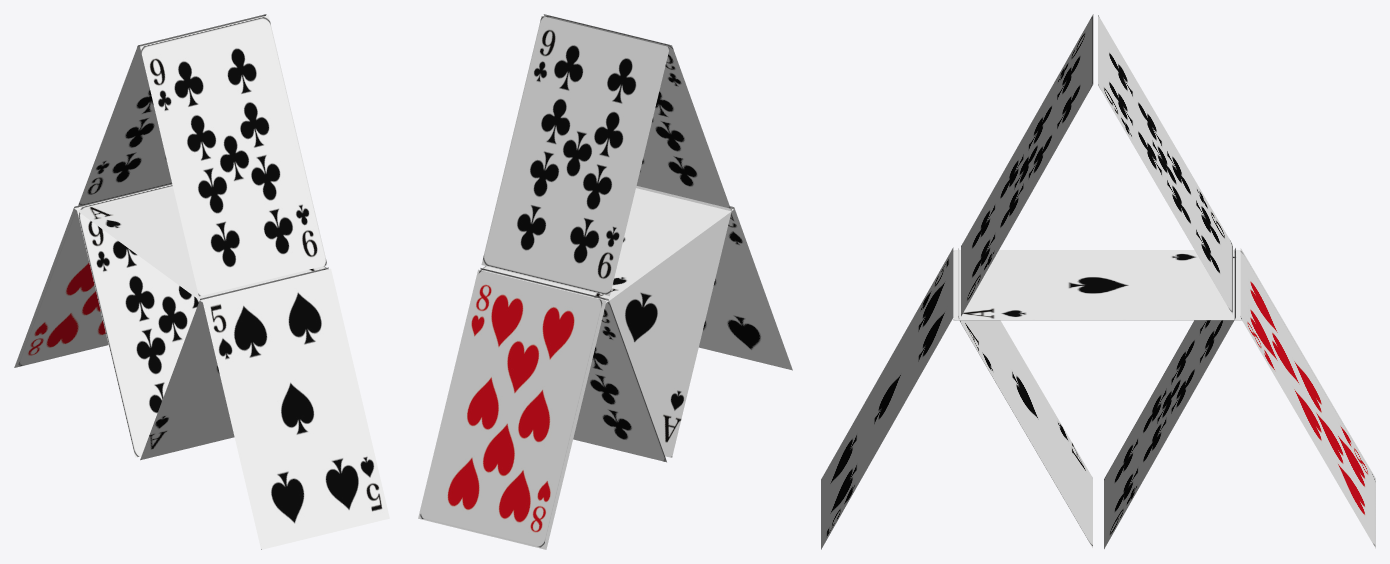
The model's file is trumptower.fbx.
3 renders of one model, left to right at view 1: azimuth 30°, elevation 25°; view 2: azimuth 150°, elevation 25°; view 3: azimuth 270°, elevation 25°, orthographic. The views are drawn at different scales.
Visible parts, largest first — view 1: polySurface3, polySurface7, polySurface5, polySurface2, polySurface6, polySurface4, polySurface1; view 2: polySurface4, polySurface2, polySurface6, polySurface3, polySurface5, polySurface7, polySurface1; view 3: polySurface1, polySurface4, polySurface2, polySurface3, polySurface7, polySurface6, polySurface5.
Part boxes in pixels (<box>): polySurface3: <box>140,15,327,296</box>; polySurface7: <box>202,268,389,549</box>; polySurface5: <box>76,184,199,457</box>; polySurface2: <box>77,14,266,206</box>; polySurface6: <box>140,267,328,460</box>; polySurface4: <box>14,184,171,367</box>; polySurface1: <box>74,187,328,302</box>; polySurface4: <box>418,269,606,549</box>; polySurface2: <box>481,16,669,296</box>; polySurface6: <box>609,186,731,457</box>; polySurface3: <box>543,14,730,208</box>; polySurface5: <box>480,268,666,462</box>; polySurface7: <box>699,206,792,370</box>; polySurface1: <box>481,188,733,302</box>; polySurface1: <box>953,250,1241,320</box>; polySurface4: <box>1240,248,1375,548</box>; polySurface2: <box>1098,15,1232,314</box>; polySurface3: <box>961,14,1093,316</box>; polySurface7: <box>821,247,953,549</box>; polySurface6: <box>958,248,1092,547</box>; polySurface5: <box>1104,248,1235,548</box>.
Size of the model in its own units: 2.88 by 8.87 by 9.59.
